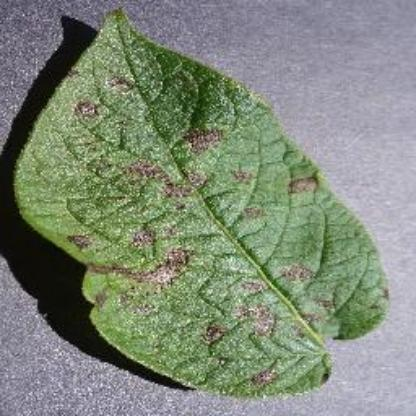Early-Blight: (12, 8, 392, 400)
